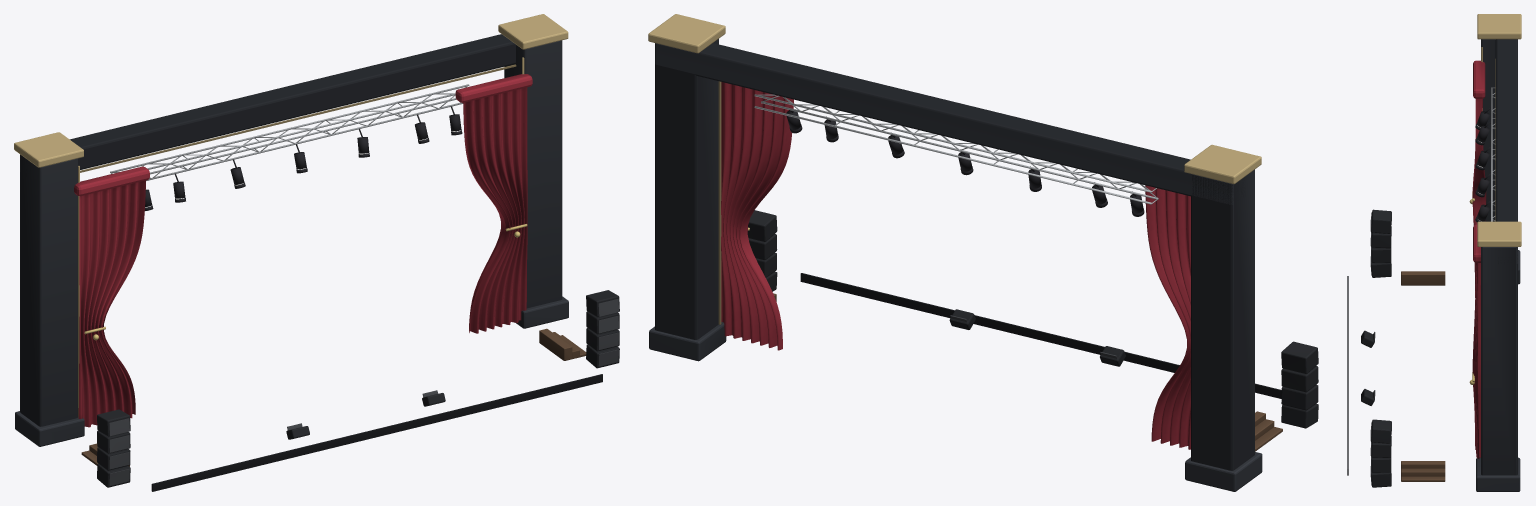
File: theater.glb
3 renders of one model, left to right at view 1: azimuth 30°, elevation 25°; view 2: azimuth 150°, elevation 25°; view 3: azimuth 270°, elevation 25°, orthographic. The views are drawn at different scales.
Visible parts, largest first — view 1: theater; view 2: theater; view 3: theater.
Boxes of the visible parts, left/top/right/bottom form: theater: left=14, top=14, right=619, bottom=491; theater: left=648, top=14, right=1318, bottom=491; theater: left=1347, top=14, right=1521, bottom=491.
Size of the model in its own units: 21.9 by 11.31 by 7.09.
